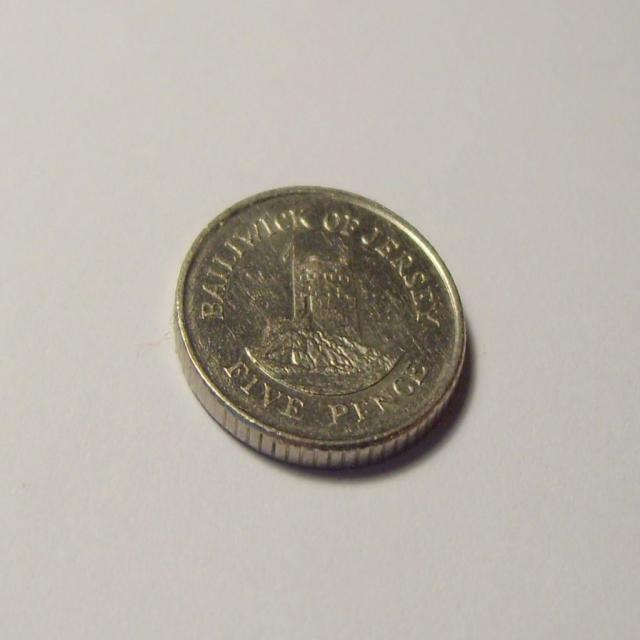Coin: (172, 186, 469, 468)
